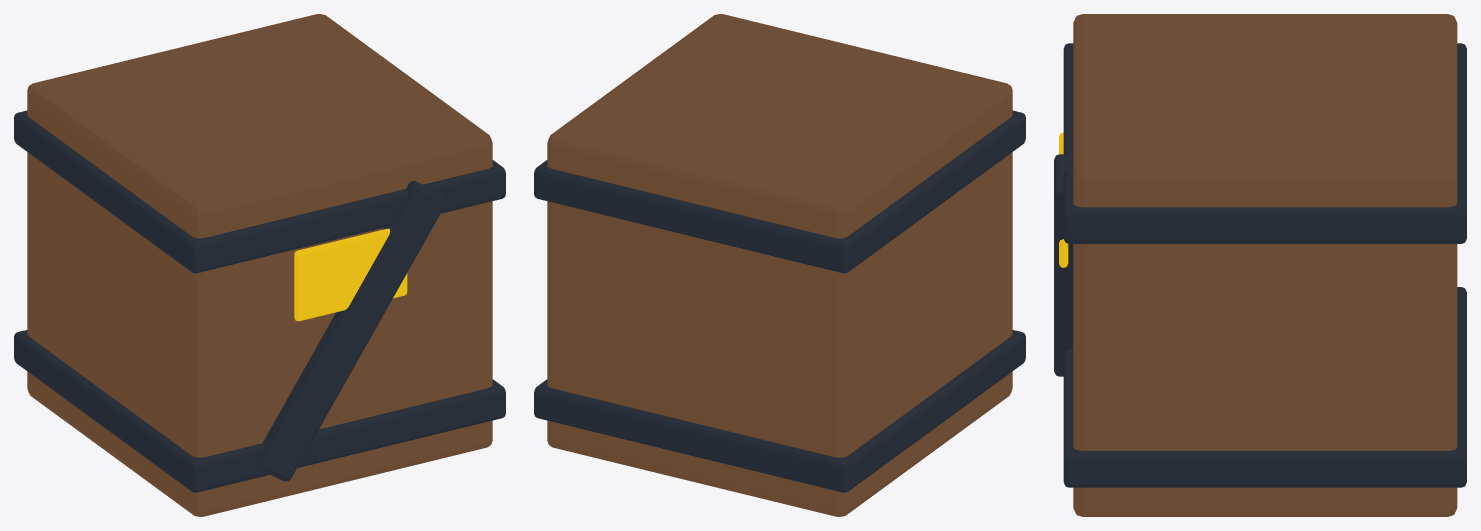
Rendered from caja_carga.glb.
3 views of the same model, side by side, from view 1: azimuth 30°, elevation 25°; view 2: azimuth 150°, elevation 25°; view 3: azimuth 270°, elevation 25° (orthographic). The views are drawn at different scales.
Visible parts, largest first — view 1: Cube.043, Cube.045, Cube.044, Cube.046, Cube.047; view 2: Cube.043, Cube.044, Cube.045; view 3: Cube.043, Cube.045, Cube.044, Cube.046.
Part boxes in pixels (x1,y1,x2,y2): Cube.043: (27,14,492,516); Cube.045: (14,110,505,273); Cube.044: (14,330,505,492); Cube.046: (257,180,446,481); Cube.047: (294,228,407,321); Cube.043: (547,14,1012,516); Cube.044: (534,330,1025,492); Cube.045: (534,110,1025,273); Cube.043: (1073,14,1457,516); Cube.045: (1063,43,1466,243); Cube.044: (1063,287,1466,487); Cube.046: (1054,154,1073,376).
Size of the model in its own units: 0.84 by 0.8 by 0.86.
